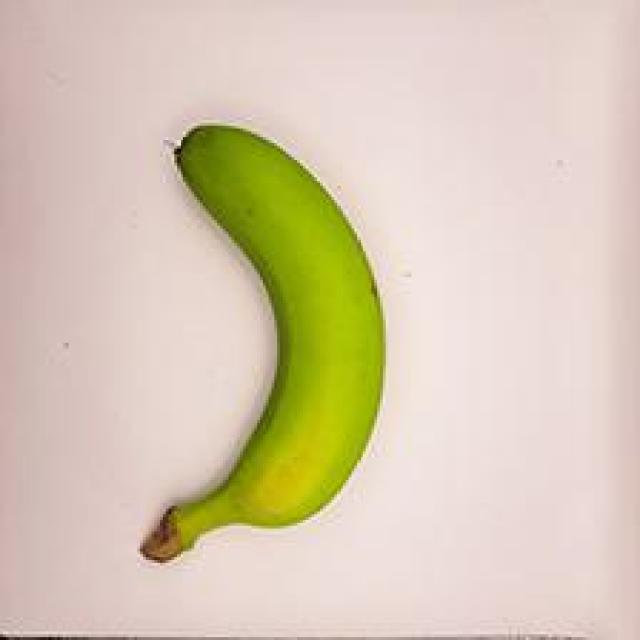unripe: (100, 57, 406, 563)
